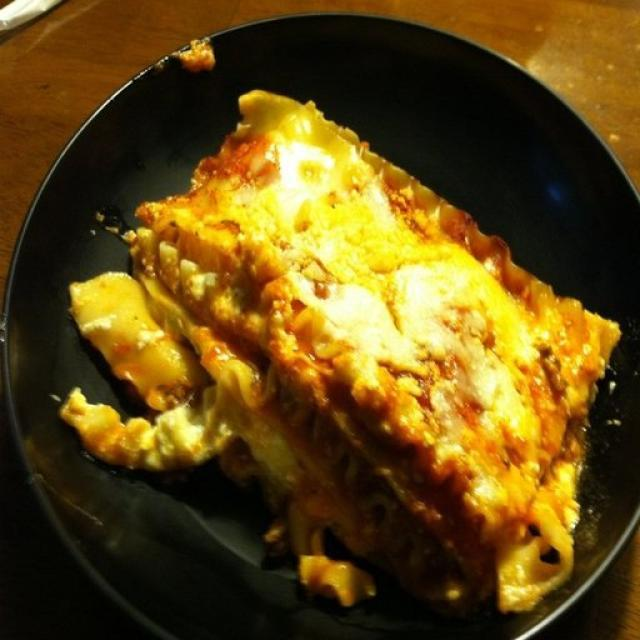Lasagna: (105, 67, 634, 585)
